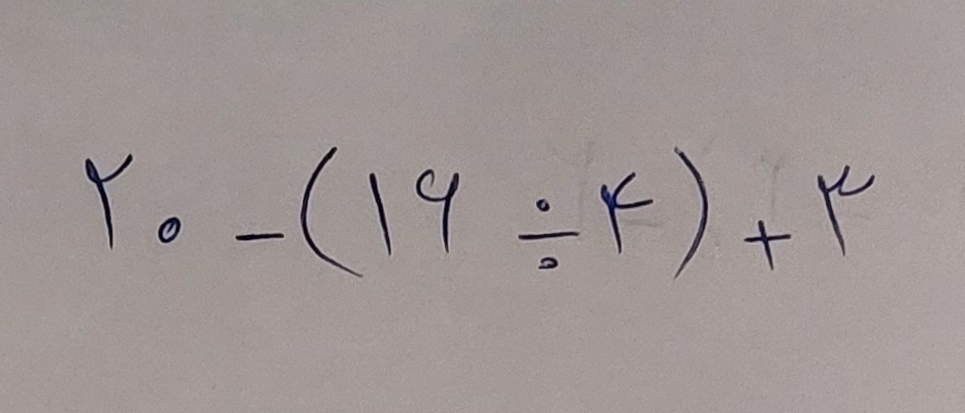character: (301, 147, 366, 279), (818, 165, 875, 258), (82, 151, 134, 249), (672, 146, 709, 279), (518, 201, 581, 272), (601, 172, 654, 256), (416, 168, 460, 253), (366, 171, 394, 255), (745, 220, 793, 269), (158, 216, 181, 244), (232, 231, 288, 242)
